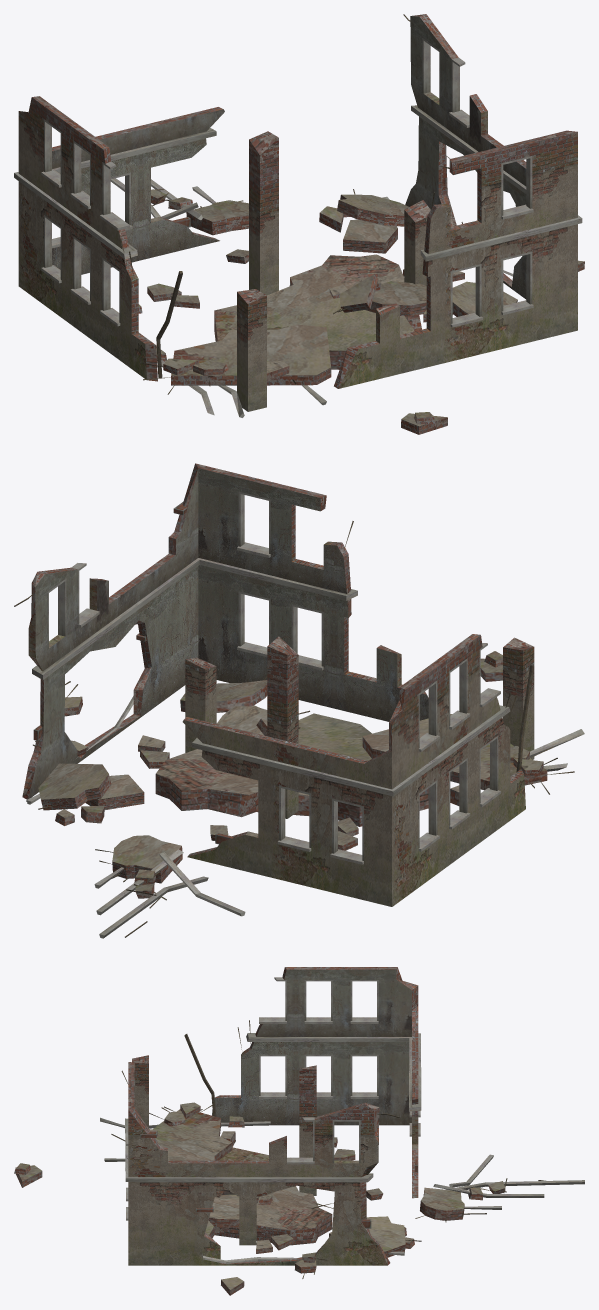
File: MiniBR_Building007.fbx
3 renders of one model, top to bottom at view 1: azimuth 30°, elevation 25°; view 2: azimuth 150°, elevation 25°; view 3: azimuth 270°, elevation 25°, orthographic. The views are drawn at different scales.
Visible parts, largest first — view 1: MiniBR_Building007; view 2: MiniBR_Building007; view 3: MiniBR_Building007.
Boxes of the visible parts, x1,y1,x2,y2 form: MiniBR_Building007: (14, 14, 584, 434); MiniBR_Building007: (14, 463, 584, 938); MiniBR_Building007: (14, 967, 584, 1295).
Bounding box in the file's own units: 1300 × 1785 × 587.
